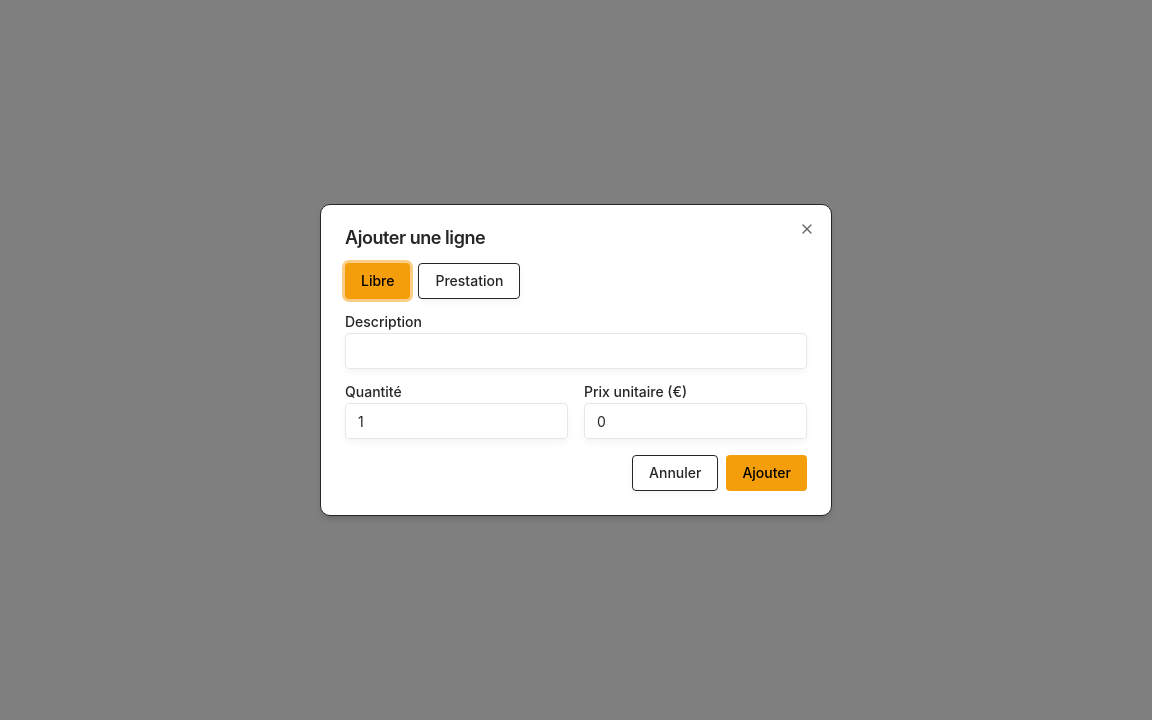
Test: EditInvoiceItemDialog › T9 — validation rejetée description vide
Click the button with test id "invoice-item-submit-button" at (767, 473), box [726, 455, 807, 491]
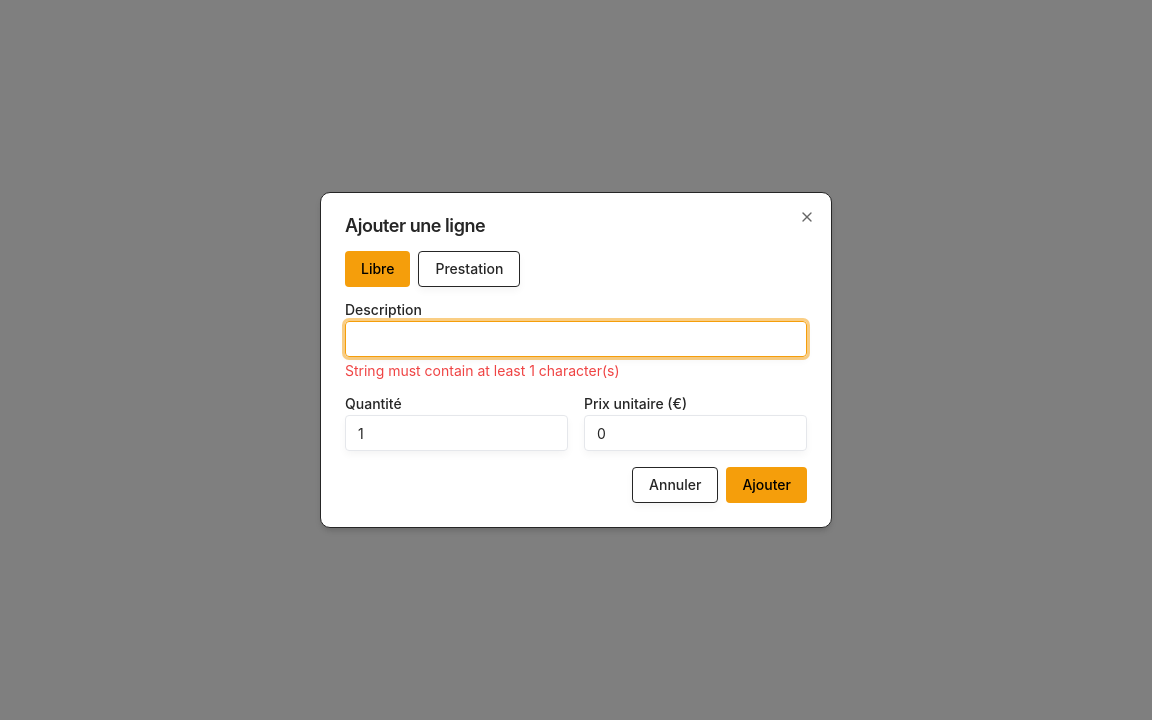
Expected: the text "String must contain at least 1" is shown, [345, 362, 620, 379]
